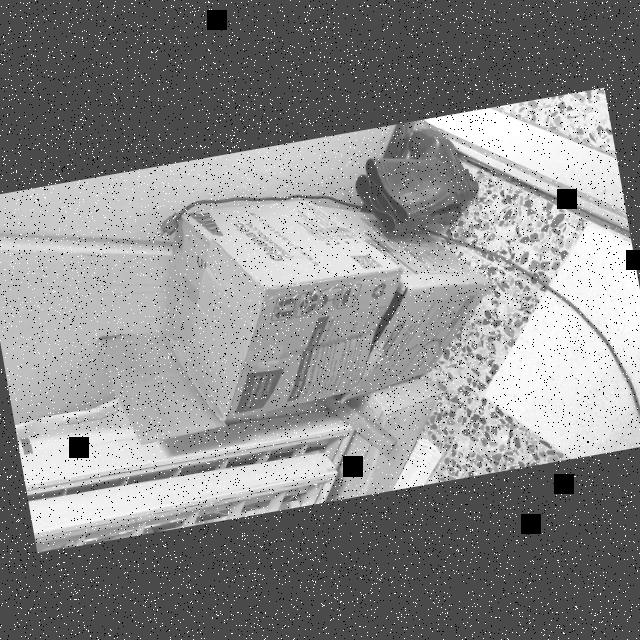cardboard_box: (74, 168, 416, 452), (309, 178, 504, 394)
